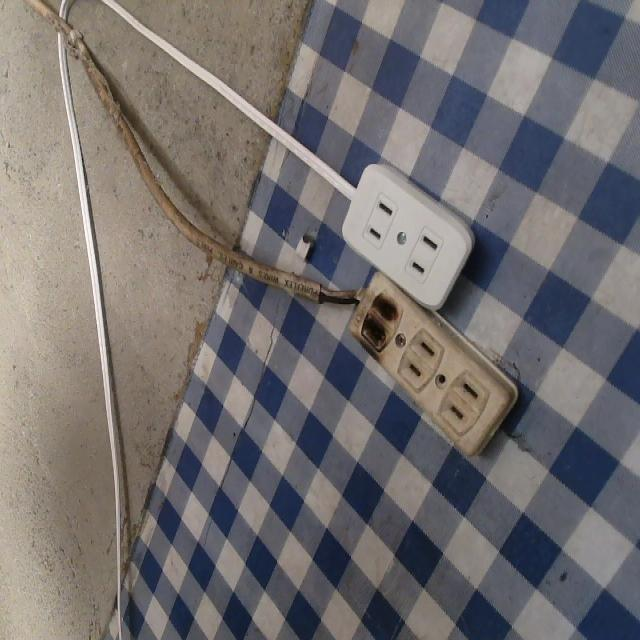-: (351, 286, 409, 354)
